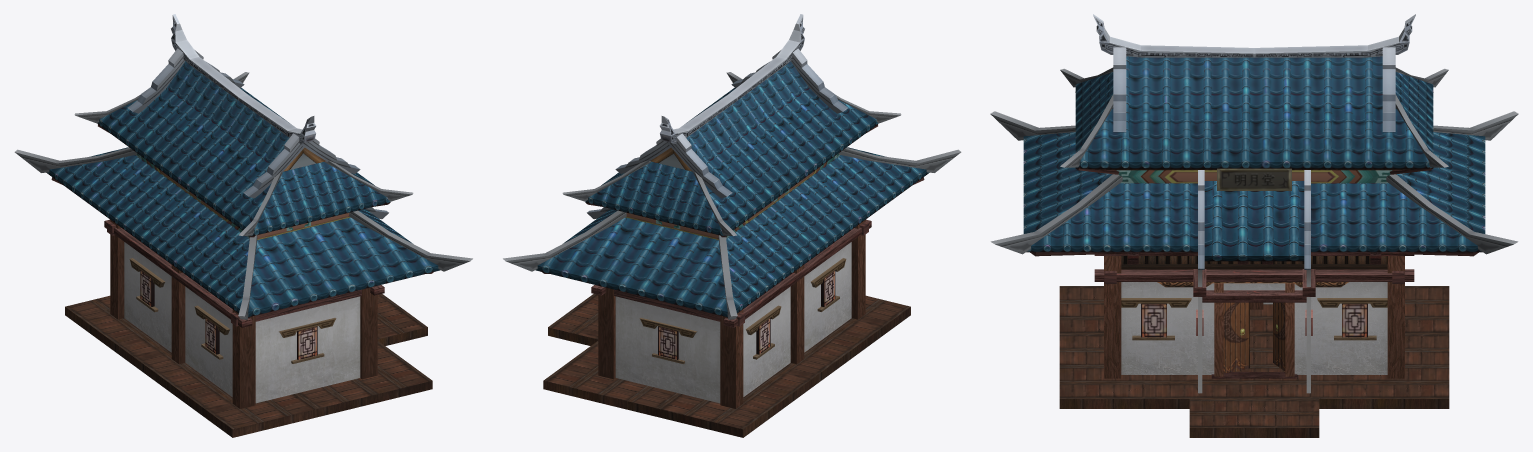
Rendered from house.glb.
3 views of the same model, side by side, from view 1: azimuth 30°, elevation 25°; view 2: azimuth 150°, elevation 25°; view 3: azimuth 270°, elevation 25° (orthographic). The views are drawn at different scales.
Visible parts, largest first — view 1: chinese building 002_chinese building 002_0.002; view 2: chinese building 002_chinese building 002_0.002; view 3: chinese building 002_chinese building 002_0.002.
Part boxes in pixels (x1,y1,x2,y2): chinese building 002_chinese building 002_0.002: (14, 14, 472, 437); chinese building 002_chinese building 002_0.002: (503, 14, 961, 437); chinese building 002_chinese building 002_0.002: (990, 14, 1518, 437).
Bounding box in the file's own units: 9.72 × 9.79 × 14.02.
Materials: 2 (2 with a texture image).
